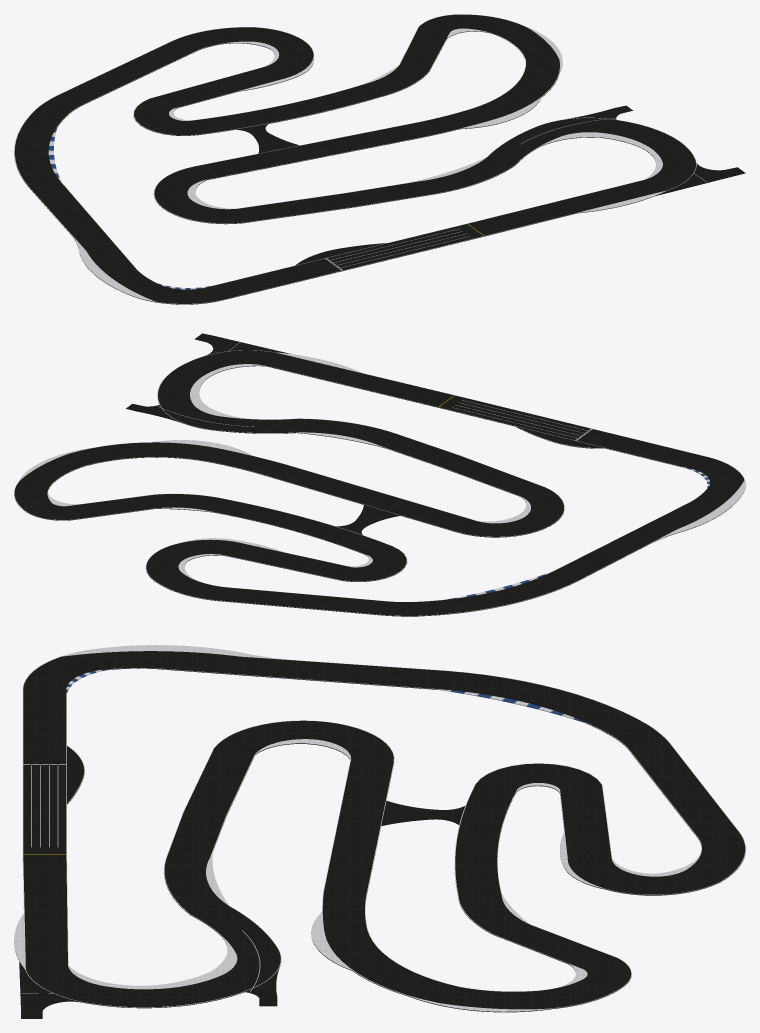
The picture shows the model from 3 angles, top to bottom: view 1: azimuth 30°, elevation 25°; view 2: azimuth 150°, elevation 25°; view 3: azimuth 270°, elevation 25°; orthographic projection. The views are drawn at different scales.
Parts seen in each view (by area): view 1: SketchUp (×6); view 2: SketchUp (×6); view 3: SketchUp (×7).
Part boxes in pixels (x1,y1,x2,y2): SketchUp (×6): [14, 14, 745, 304]; SketchUp (×6): [14, 333, 745, 616]; SketchUp (×7): [14, 645, 745, 1018].
Size of the model in its own units: 5476 by 4538 by 3.94.
6 materials, 3 textured.
